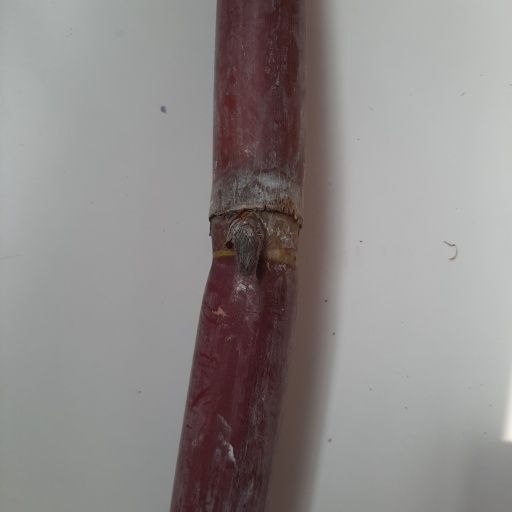Bud: (227, 214, 262, 278)
